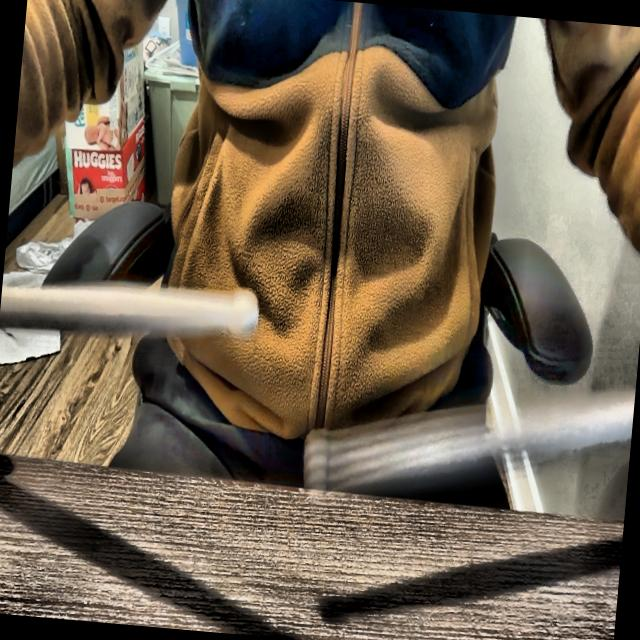Drumstick-Heads: (296, 428, 336, 509), (228, 278, 262, 347)
